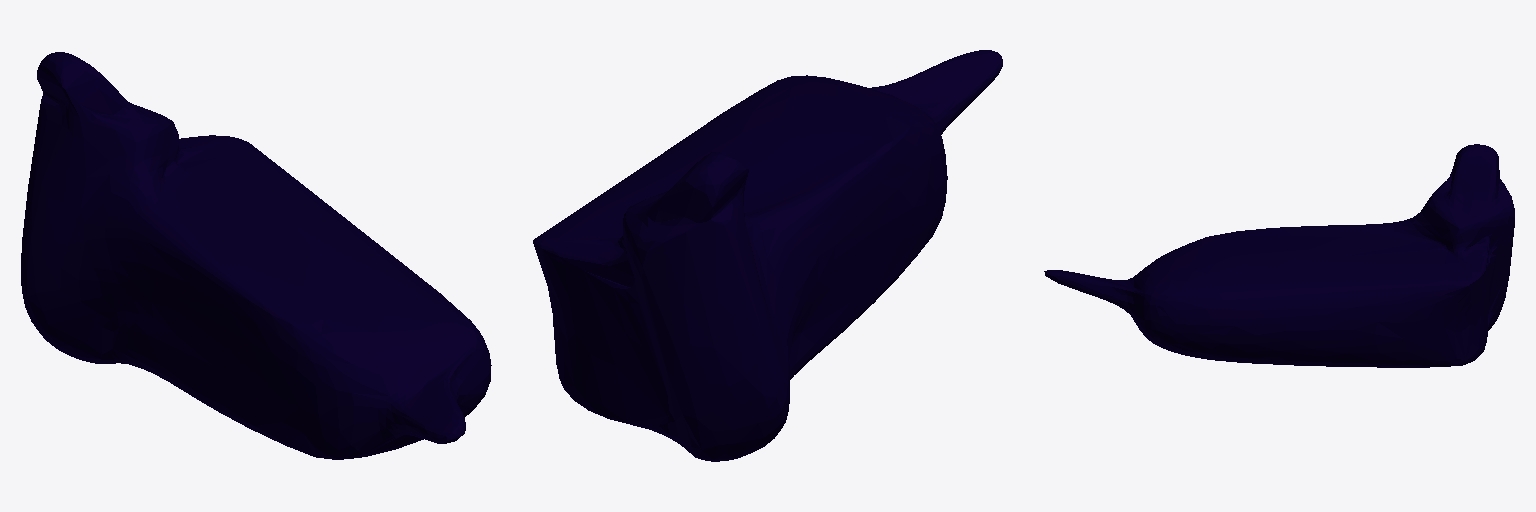
The robot description file, URDF, robot "blob191":

<robot name="blob191">
  <link name="random_obj_191">
    <contact>
      <lateral_friction value="1.0"/>
      <rolling_friction value="0.0"/>
      <inertia_scaling value="3.0"/>
      <contact_cfm value="0.0"/>
      <contact_erp value="1.0"/>
    </contact>
    <inertial>
      <origin rpy="0 0 0" xyz="0 0 0"/>
      <mass value="0.0926"/>
      <inertia ixx="1" ixy="0" ixz="0" iyy="1" iyz="0" izz="0"/>
    </inertial>
    <visual>
      <origin rpy="0 0 0" xyz="0 0 0"/>
      <geometry>
        <mesh filename="191.obj" scale="0.0079 0.0079 0.0079"/>
      </geometry>
      <material name="blockmat">
        <color rgba="0.06 0.02 0.19 1"/>
      </material>
    </visual>
    <collision>
      <origin rpy="0 0 0" xyz="0 0 0"/>
      <geometry>
        <mesh filename="191_coll.obj" scale="0.0079 0.0079 0.0079"/>
      </geometry>
    </collision>
  </link>
</robot>

--- Facts derived from the render (not from the file) ---
3 views of the same robot in one strip: view 1: azimuth 30°, elevation 25°; view 2: azimuth 150°, elevation 25°; view 3: azimuth 270°, elevation 25° (orthographic).
Robot: blob191 — 1 links, 0 joints (none); root link random_obj_191; default pose: every joint at zero.
Links seen in each view (by area): view 1: random_obj_191; view 2: random_obj_191; view 3: random_obj_191.
Link boxes in pixels (x1,y1,x2,y2): random_obj_191: (21,52,491,459); random_obj_191: (533,50,1002,461); random_obj_191: (1044,144,1514,367).
Size in the robot's own frame: 0.0532 by 0.1284 by 0.058 metres.
Meshes: 1 distinct files referenced, 1 mesh visuals loaded (1 OBJ).
